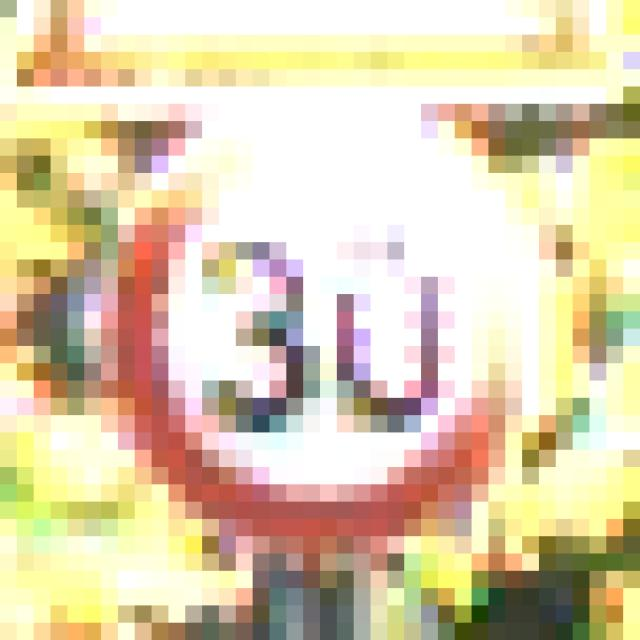Speed Limit -30-: (93, 78, 547, 527)
